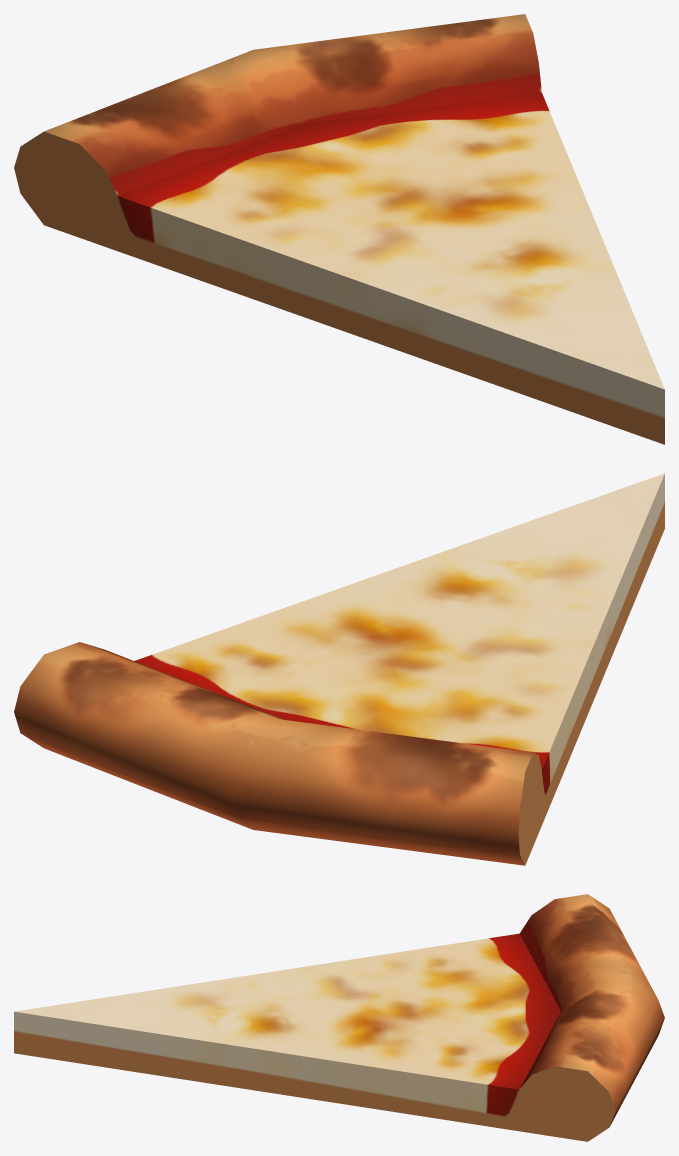
Rendered from Pizza_Slice_NewYork.fbx.
3 views of the same model, one above another, from view 1: azimuth 30°, elevation 25°; view 2: azimuth 150°, elevation 25°; view 3: azimuth 270°, elevation 25° (orthographic). The views are drawn at different scales.
Visible parts, largest first — view 1: Pizza_Slice_NewYork; view 2: Pizza_Slice_NewYork; view 3: Pizza_Slice_NewYork.
Part boxes in pixels (x1,y1,x2,y2): Pizza_Slice_NewYork: (14, 14, 664, 444); Pizza_Slice_NewYork: (14, 473, 664, 865); Pizza_Slice_NewYork: (14, 894, 664, 1141).
Size of the model in its own units: 83.18 by 14.77 by 123.
